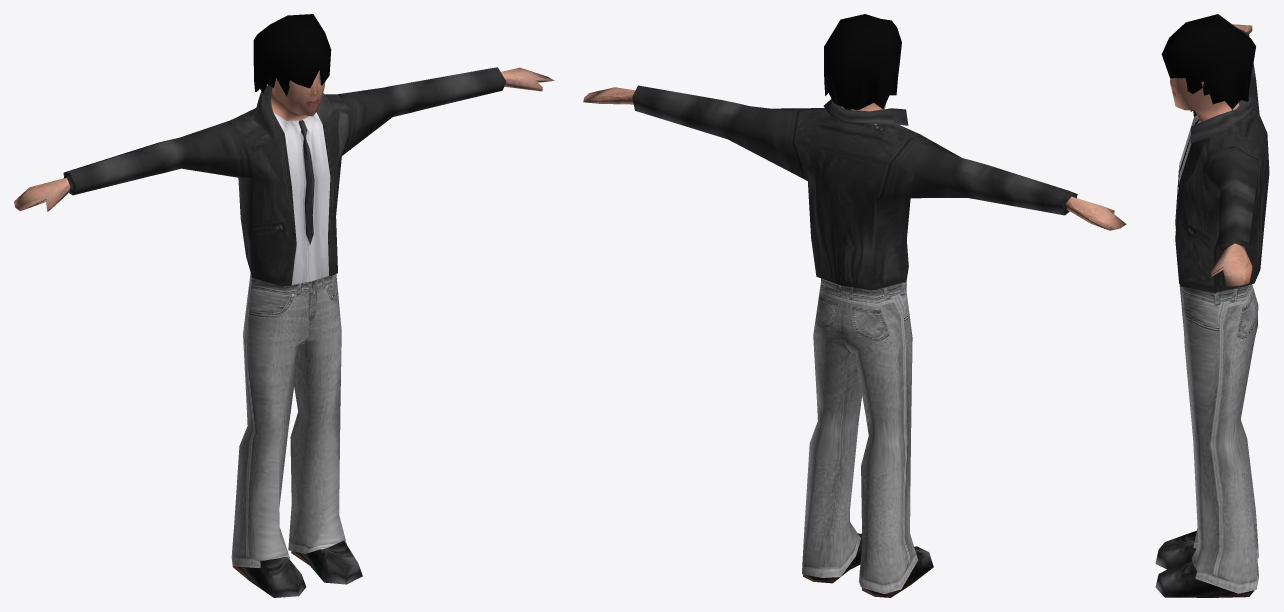
File: Player_model.glb
3 renders of one model, left to right at view 1: azimuth 30°, elevation 25°; view 2: azimuth 150°, elevation 25°; view 3: azimuth 270°, elevation 25°, orthographic.
Parts seen in each view (by area): view 1: male_body, Male_hair; view 2: male_body, Male_hair; view 3: male_body, Male_hair.
Boxes of the visible parts, <box> form: male_body: <box>14,67,554,597</box>; Male_hair: <box>253,14,331,96</box>; male_body: <box>583,85,1126,597</box>; Male_hair: <box>824,14,901,110</box>; male_body: <box>1155,24,1269,597</box>; Male_hair: <box>1161,14,1255,111</box>.
Size of the model in its own units: 7.57 by 7.42 by 1.39.
2 materials, 2 textured.
